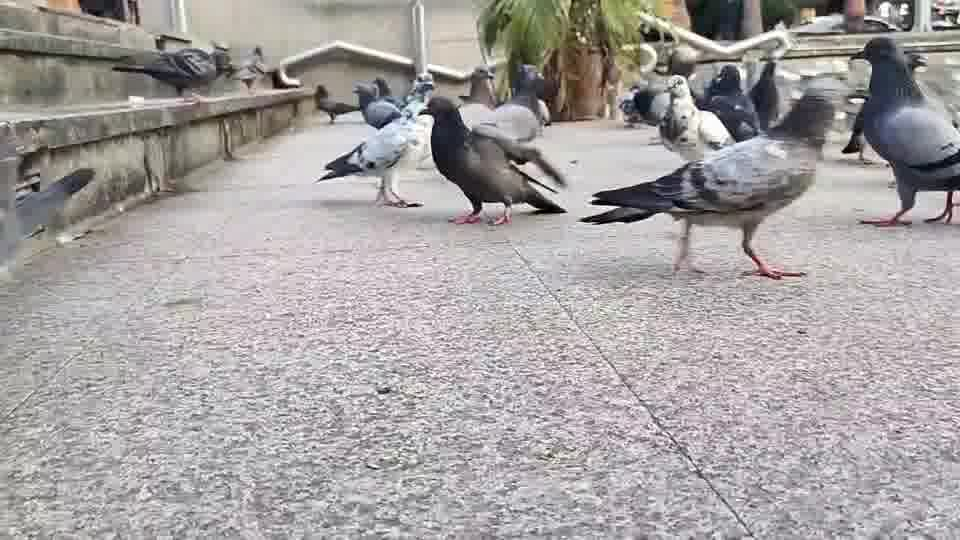Pigeon: (578, 88, 834, 280), (842, 35, 959, 227), (416, 94, 567, 226), (312, 117, 425, 208), (656, 73, 735, 162), (111, 40, 231, 96), (13, 166, 96, 239), (313, 84, 359, 123)
